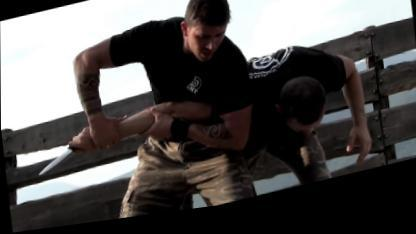knife: (30, 126, 92, 180)
